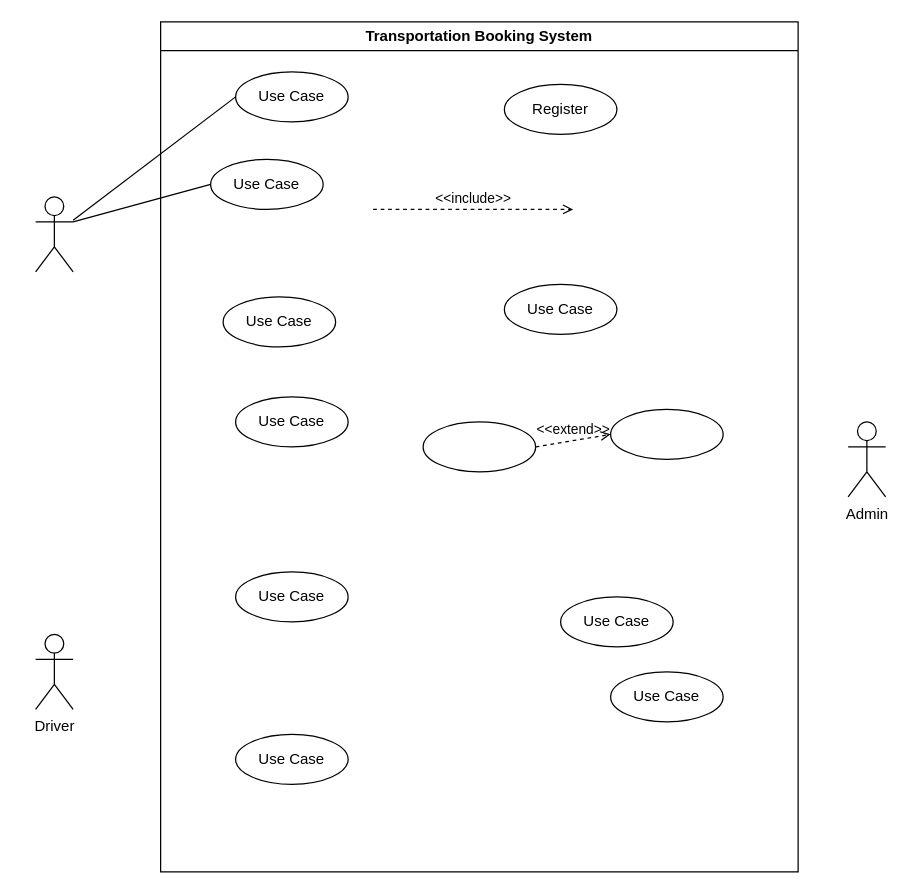
The diagram is 909 pixels wide and 894 high, and some of its shapes have lost their labels. The box of each missing label's shape, as (x1, y1, x2, y2) in pixels:
Ban account: (422, 421, 536, 472)
Customer: (34, 196, 73, 272)
Manage accounts: (609, 408, 723, 459)
